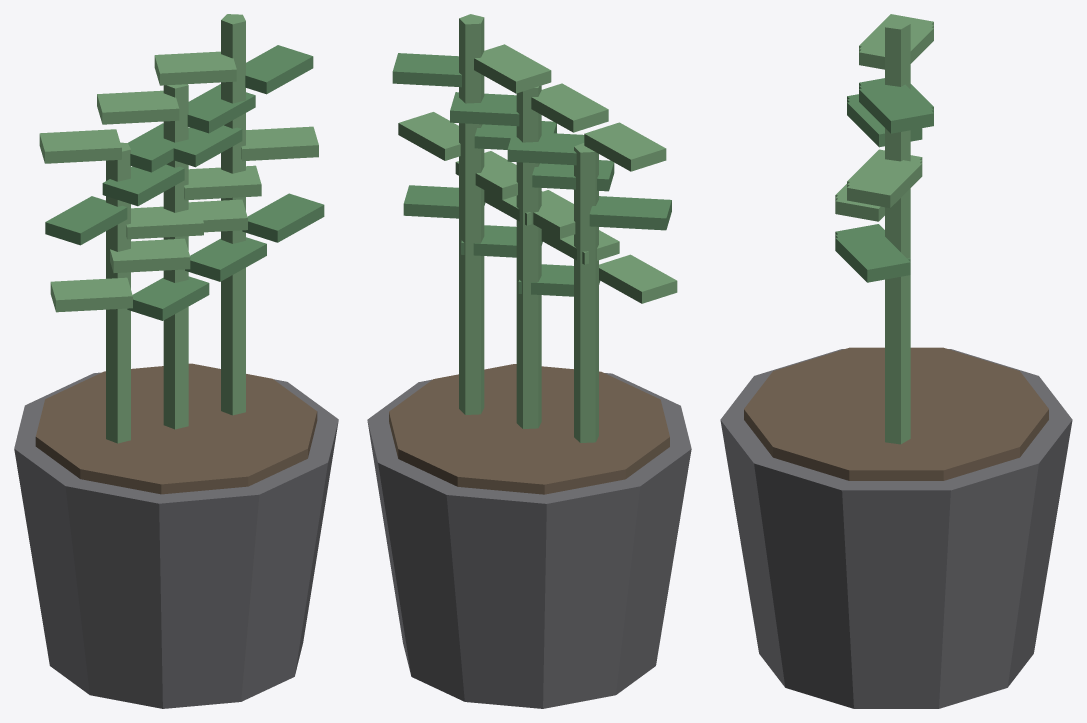
The model's file is pla_zamioculca.glb.
3 renders of one model, left to right at view 1: azimuth 30°, elevation 25°; view 2: azimuth 150°, elevation 25°; view 3: azimuth 270°, elevation 25°, orthographic. The views are drawn at different scales.
Parts seen in each view (by area): view 1: PLA_ZAMIOCULCA_v01; view 2: PLA_ZAMIOCULCA_v01; view 3: PLA_ZAMIOCULCA_v01.
Part boxes in pixels (x1,y1,x2,y2): PLA_ZAMIOCULCA_v01: (14, 14, 338, 708); PLA_ZAMIOCULCA_v01: (367, 14, 691, 708); PLA_ZAMIOCULCA_v01: (720, 14, 1072, 708).
Size of the model in its own units: 0.2853 by 0.62 by 0.3.
